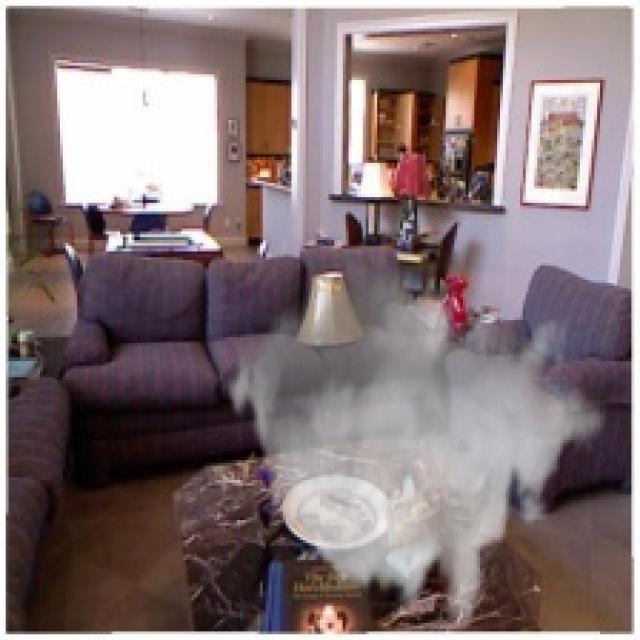smoke: (223, 246, 606, 634)
